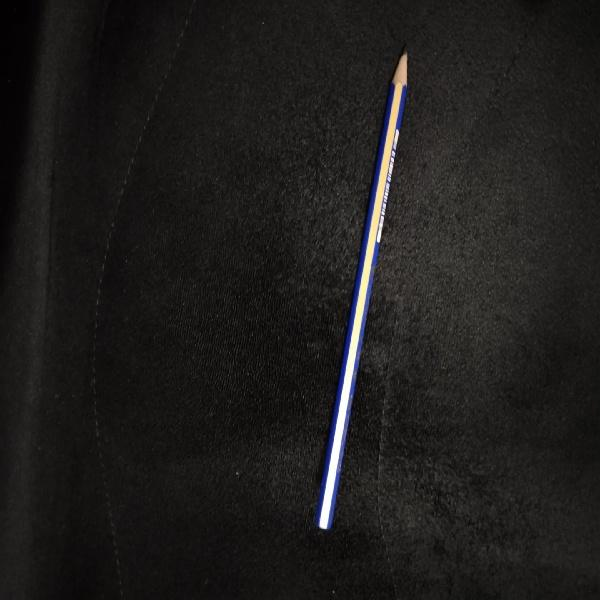pencil: (317, 52, 406, 528)
